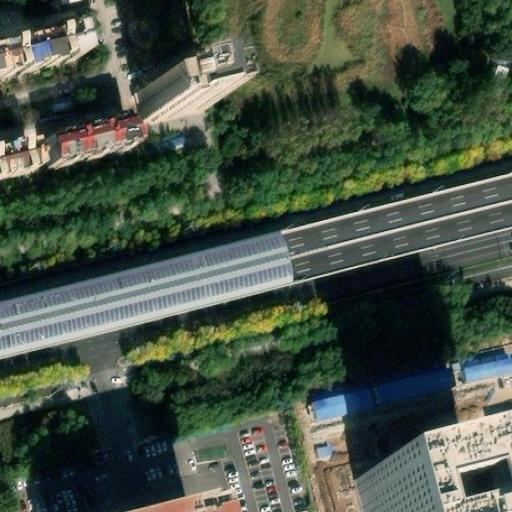building: (352, 452, 474, 512), (36, 117, 123, 165), (138, 71, 215, 123), (0, 24, 75, 73), (378, 366, 458, 405), (311, 388, 371, 422), (464, 357, 512, 383), (0, 142, 29, 178), (311, 437, 332, 459), (184, 507, 196, 512)
